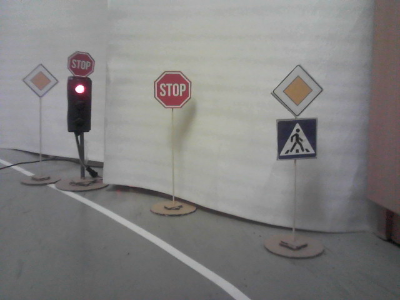crosswalk: (278, 120, 317, 160)
priority_road: (273, 66, 323, 115), (24, 65, 57, 96)
stop: (155, 72, 191, 108), (68, 53, 94, 77)
trafficlight_red: (67, 79, 90, 132)
